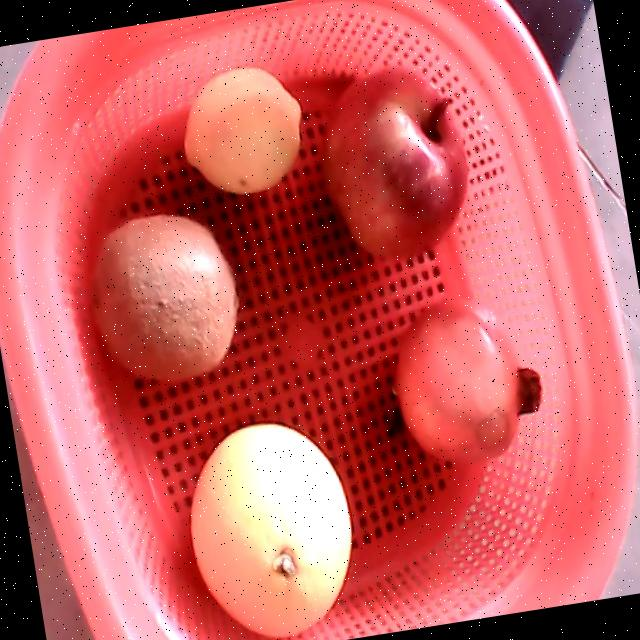apple: (323, 67, 468, 260)
kiwi: (93, 214, 239, 379)
lemon: (184, 68, 303, 194)
orange: (191, 423, 352, 639)
pomegranate: (396, 296, 543, 470)
